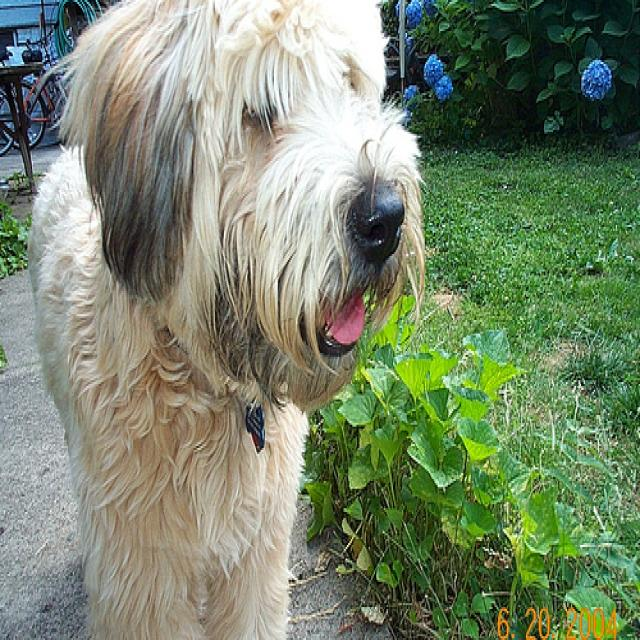dog-wheaten_terrier: (15, 2, 425, 636)
